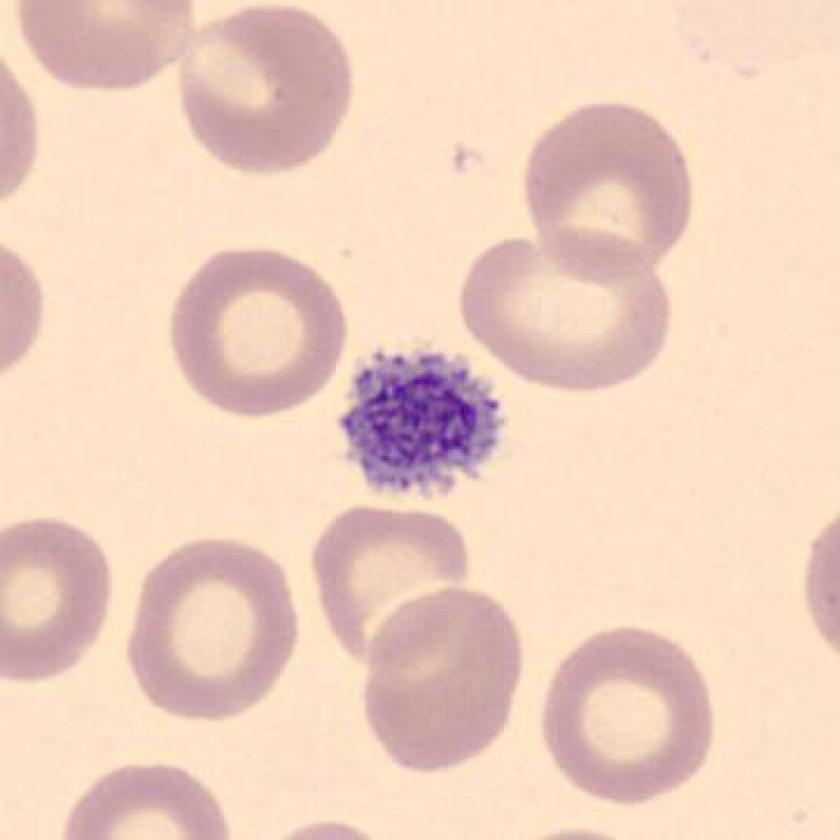platelets: (325, 332, 517, 510)
